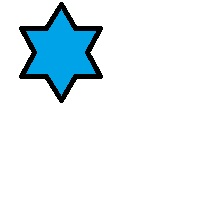star: (18, 1, 103, 103)
